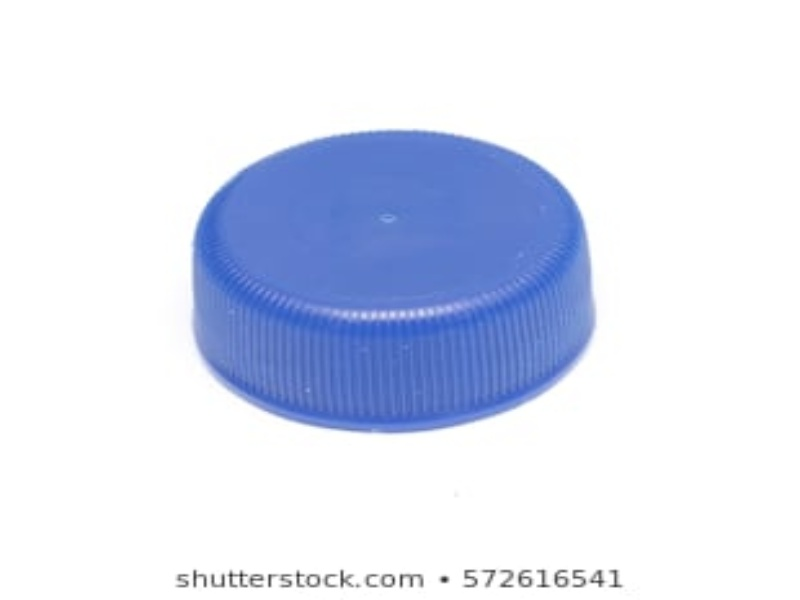bottle-cap: (188, 129, 599, 437)
